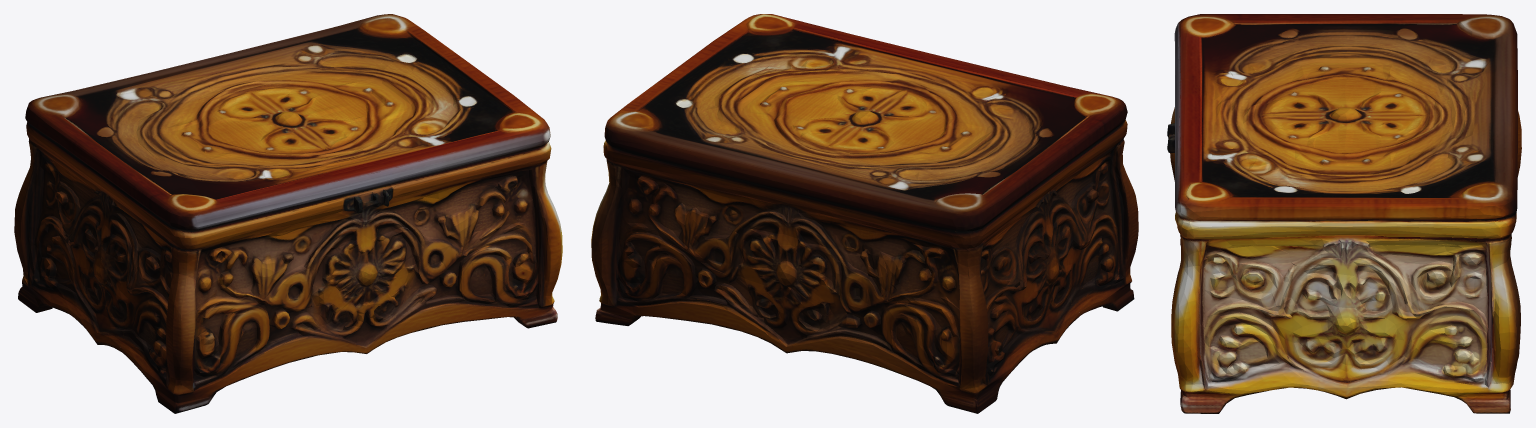
File: wooden-jewelry-box-3d.jpeg.glb
The picture shows the model from 3 angles, left to right: view 1: azimuth 30°, elevation 25°; view 2: azimuth 150°, elevation 25°; view 3: azimuth 270°, elevation 25°; orthographic projection. The views are drawn at different scales.
Visible parts, largest first — view 1: world; view 2: world; view 3: world.
Part boxes in pixels (x1,y1,x2,y2): world: (14, 14, 562, 413); world: (591, 14, 1138, 413); world: (1167, 14, 1521, 413).
Bounding box in the file's own units: 0.9951 × 0.4875 × 0.7484.
Materials: 1 (1 with a texture image).
